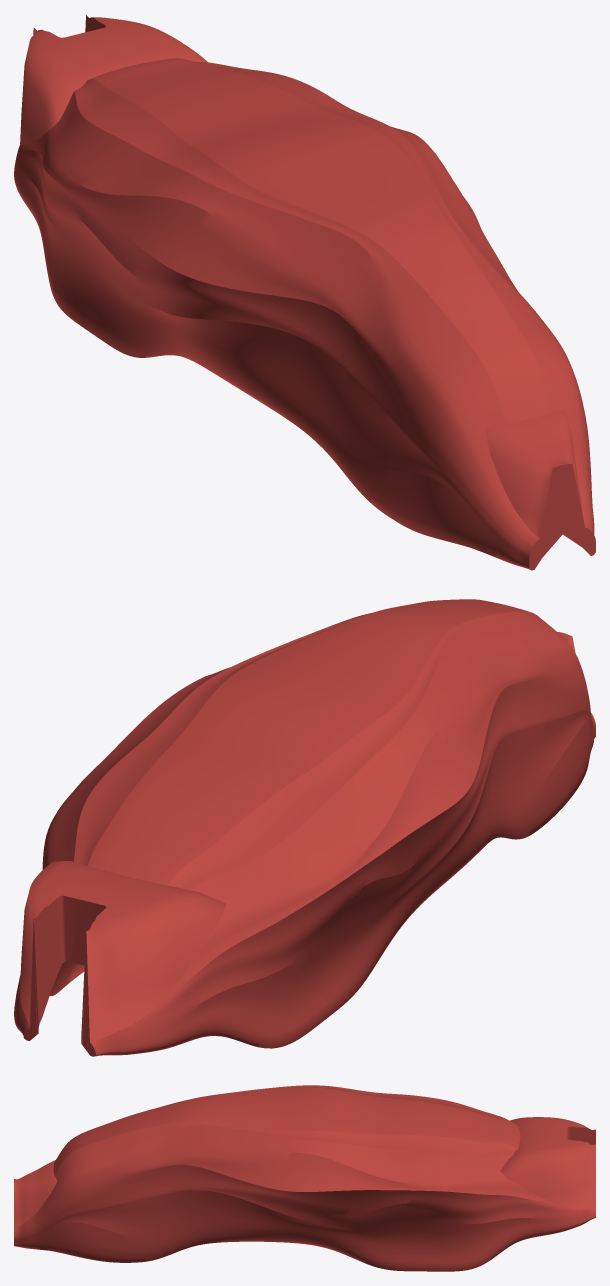
File: wedge.glb
The picture shows the model from 3 angles, top to bottom: view 1: azimuth 30°, elevation 25°; view 2: azimuth 150°, elevation 25°; view 3: azimuth 270°, elevation 25°; orthographic projection. The views are drawn at different scales.
Visible parts, largest first — view 1: lod0; view 2: lod0; view 3: lod0.
Part boxes in pixels (box(x1,y1,x2,y2)): lod0: box(14, 14, 595, 570); lod0: box(14, 599, 595, 1056); lod0: box(14, 1085, 595, 1271).
Size of what is drawn, in the model's own units: 0.3694 by 0.2741 by 1.07.
